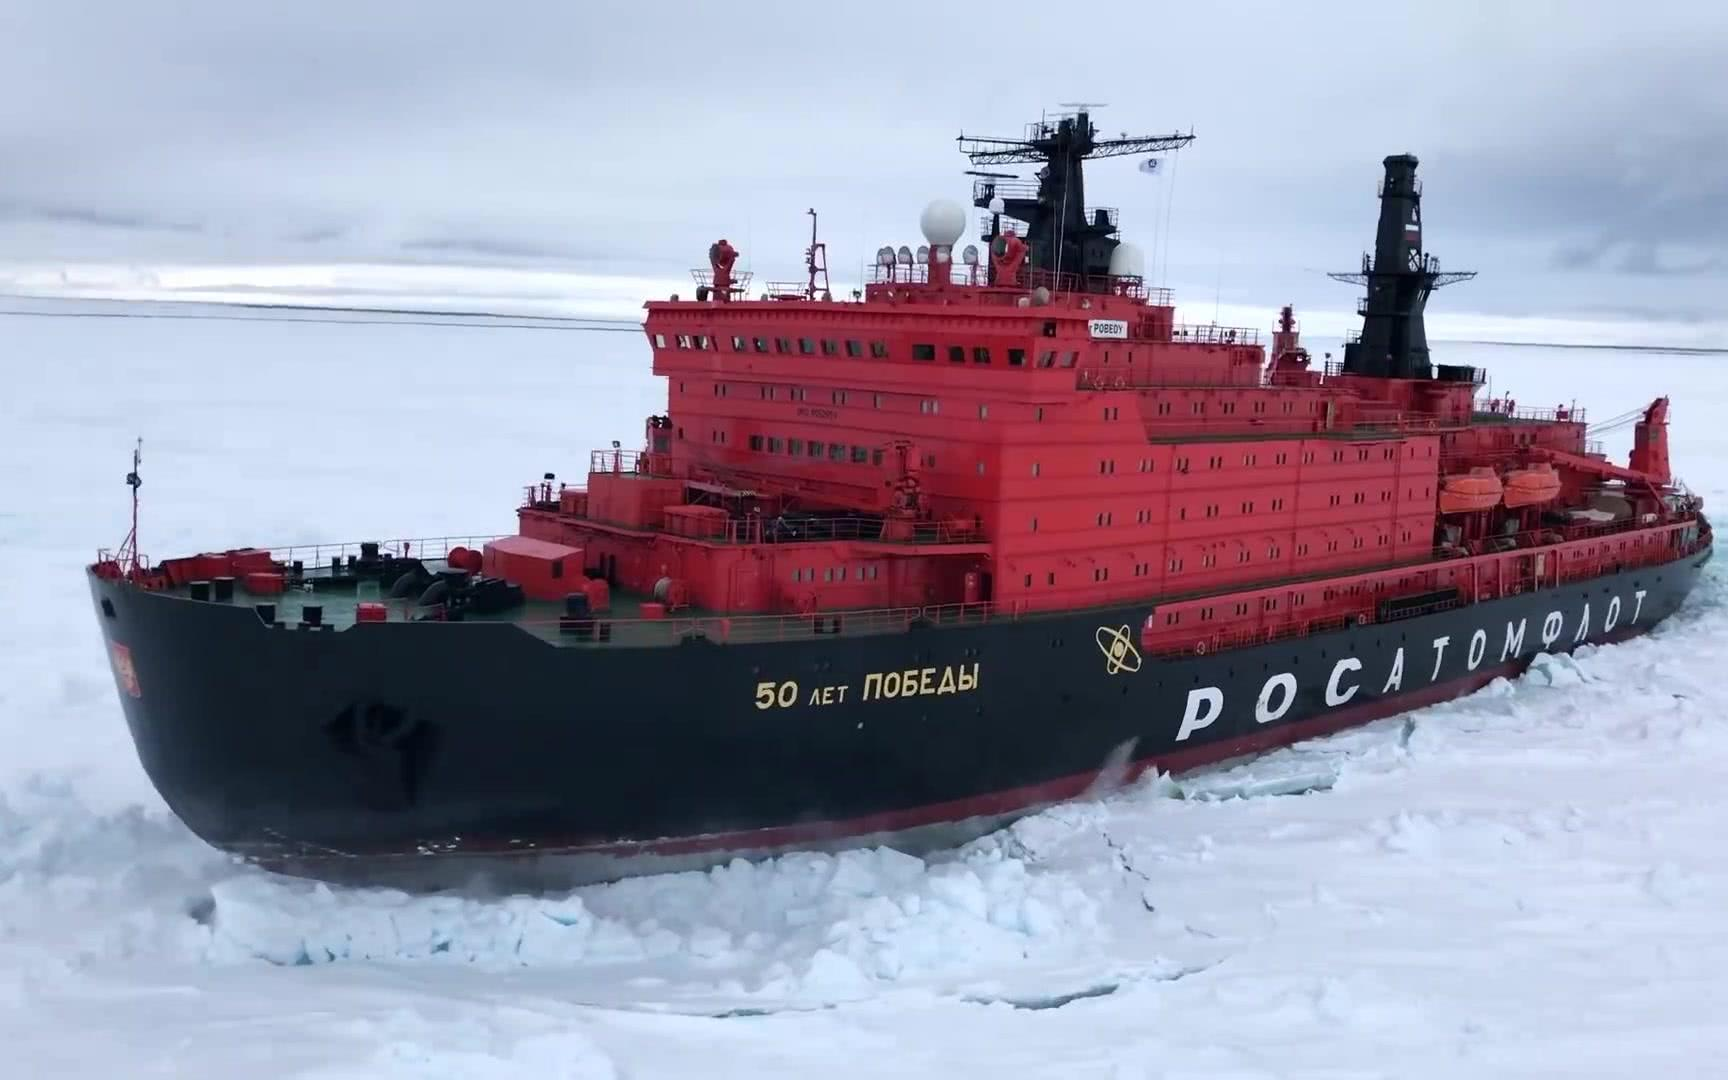warship: (71, 109, 1692, 875)
